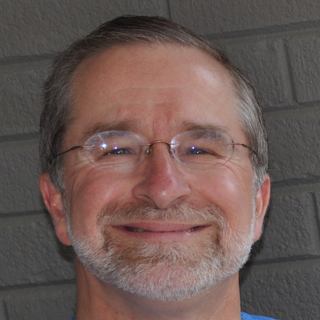eye: (94, 142, 142, 163), (180, 143, 222, 162)
